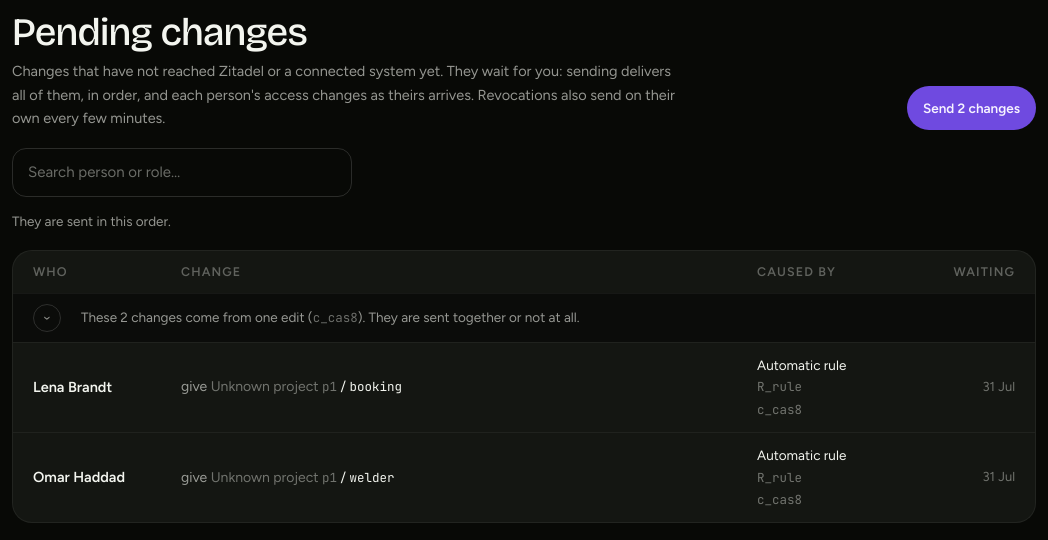
Pending changes · board layout › search › keeps the band even when one row of the batch is all that matches
The width and height of the screenshot is (1048, 540).
Type "omar" into the field named "Search pending changes" at x=182, y=173, box [12,148,352,197]
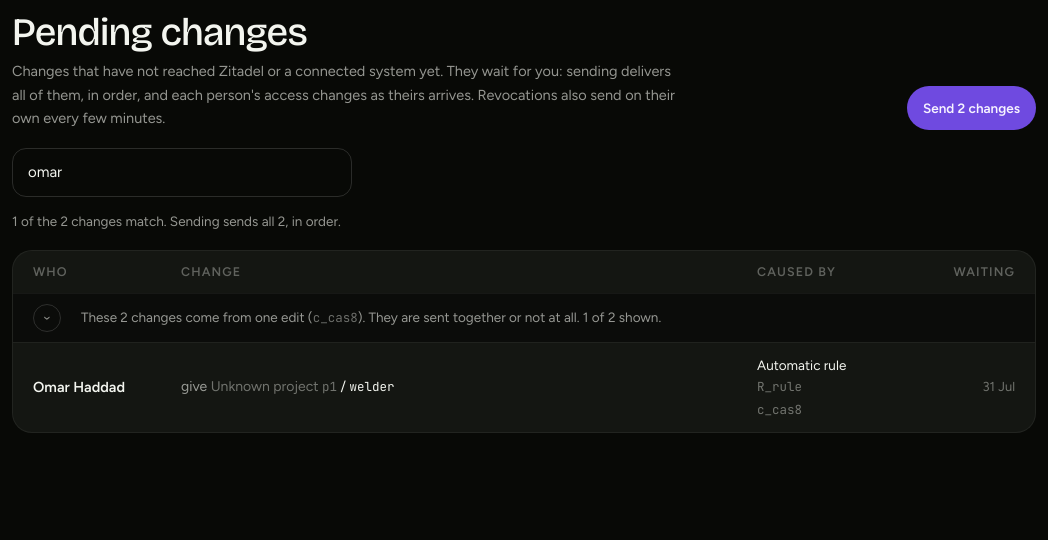
Expected: the text "These 2 changes come from one edit" is shown, [81,309,661,326]
Now the text "1 of 2 shown." is shown, box [580,309,661,325]
